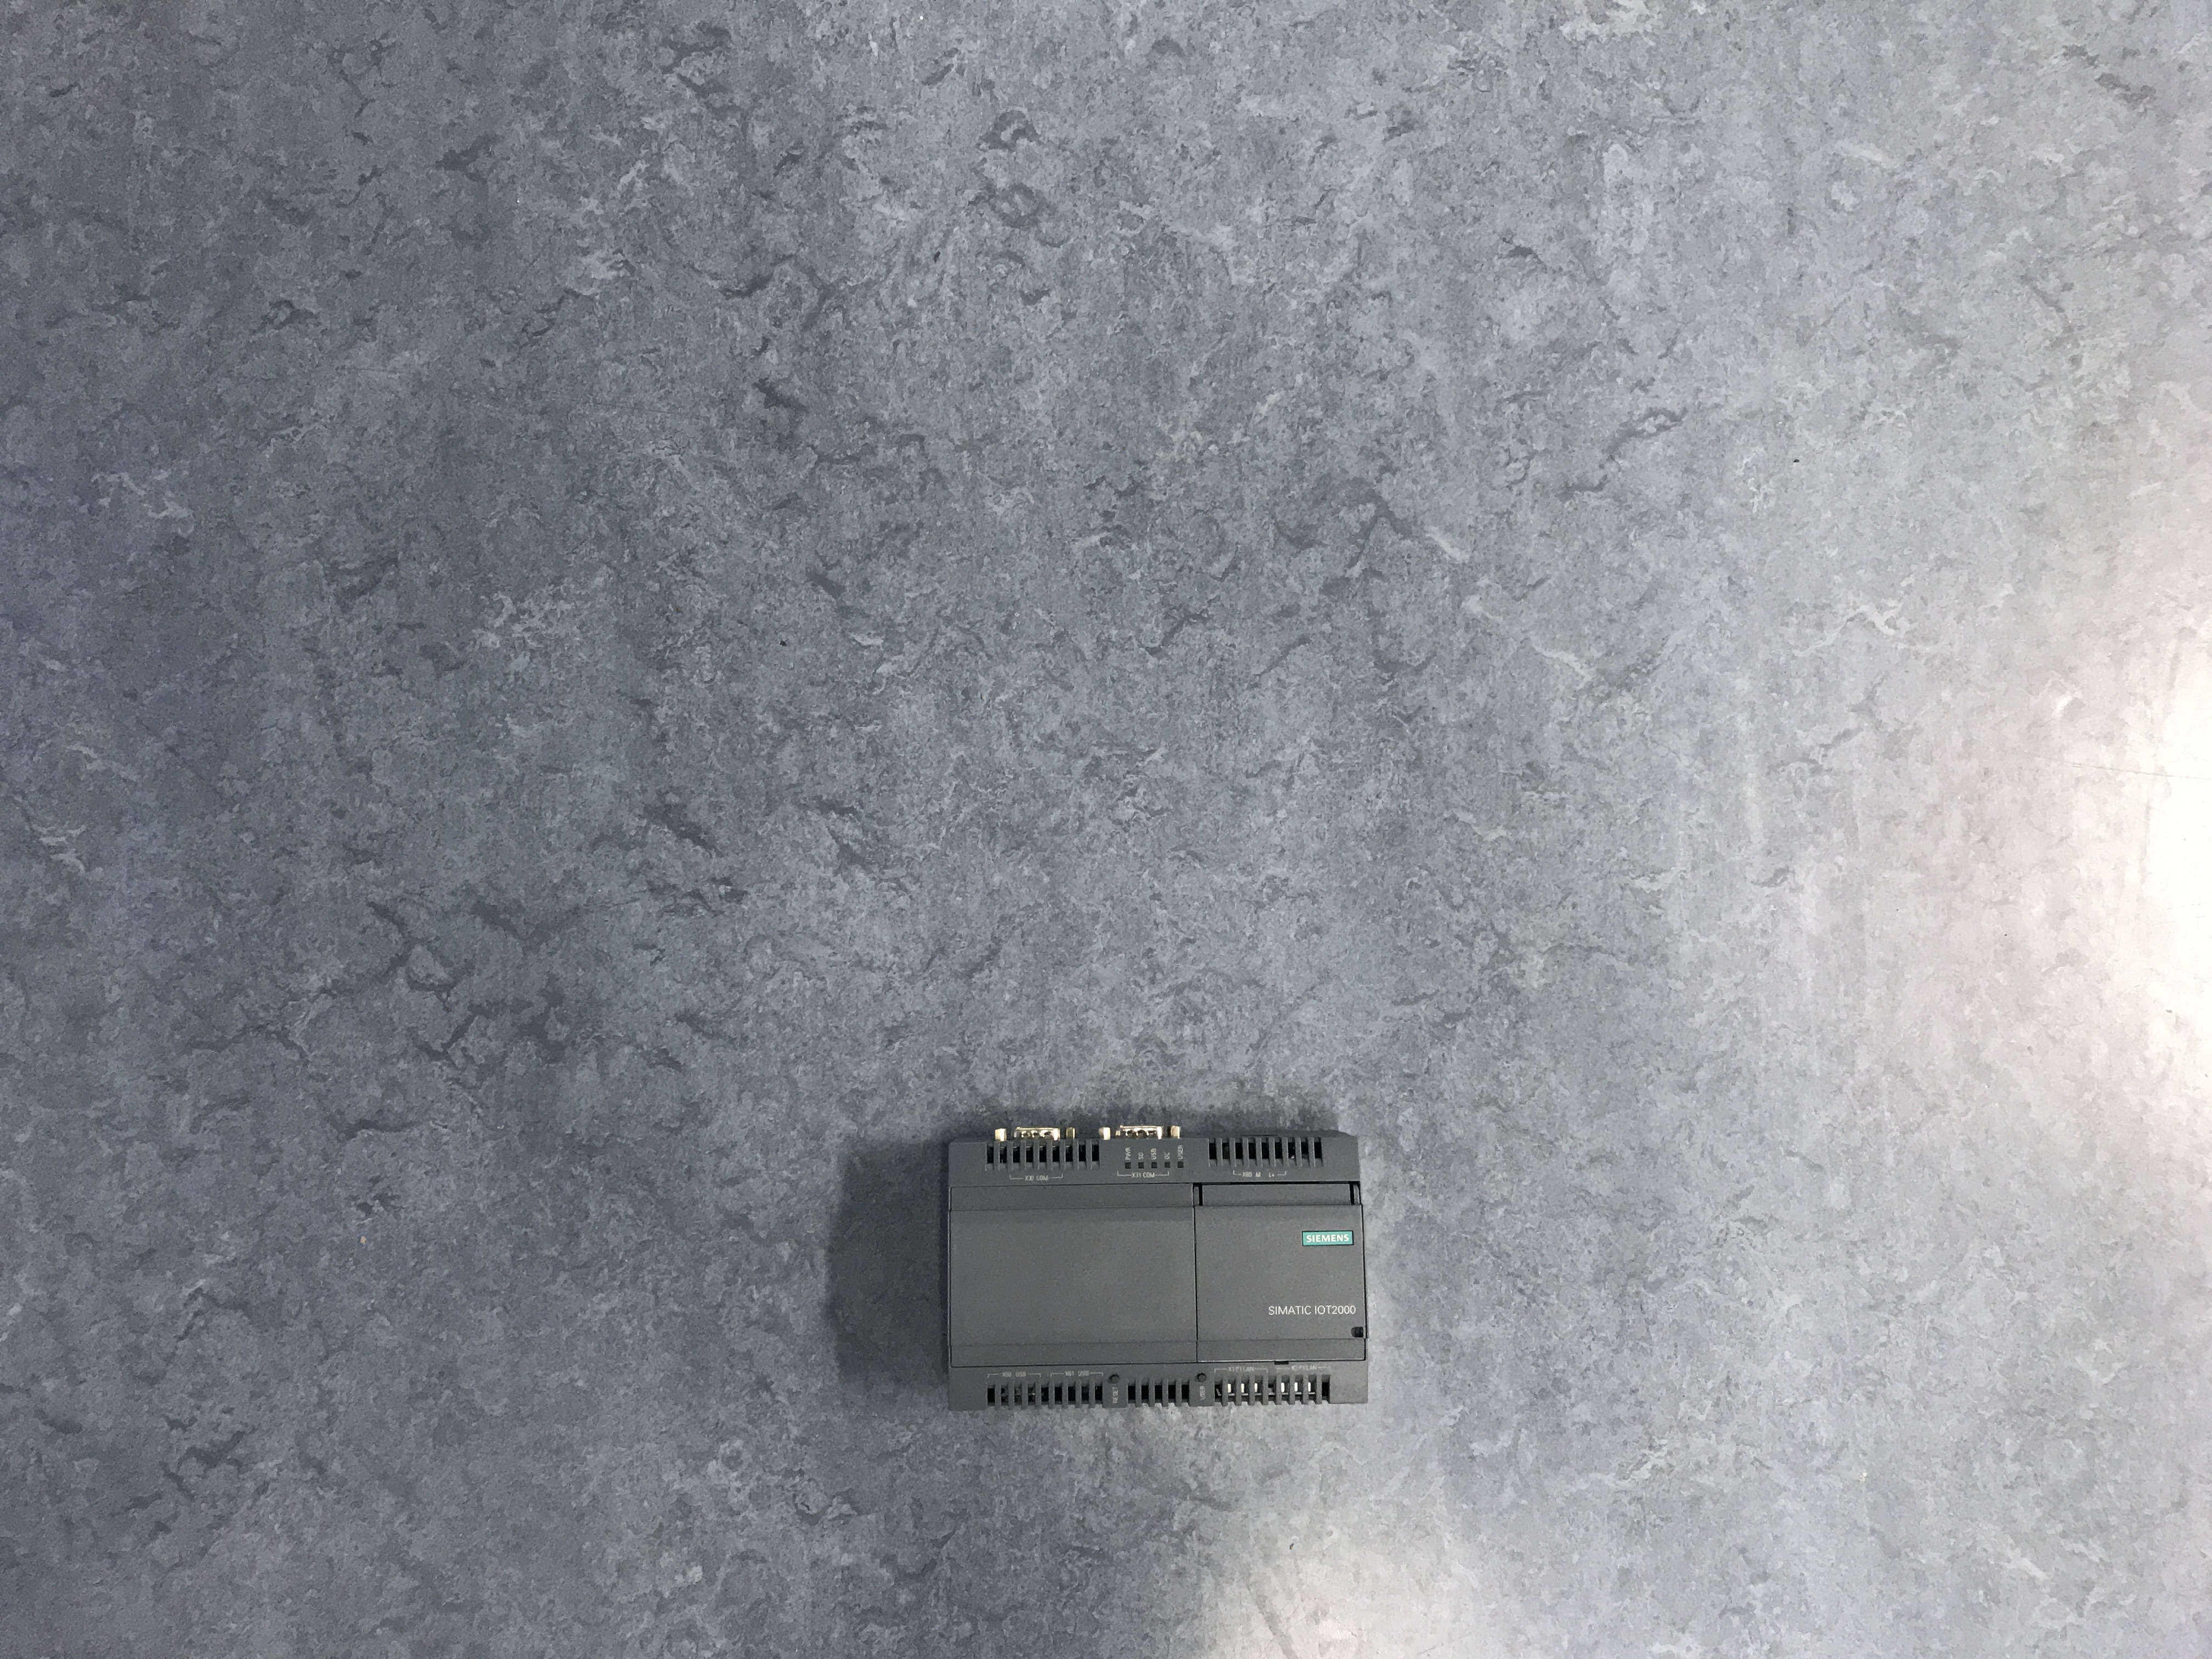device: (946, 1126, 1369, 1412)
